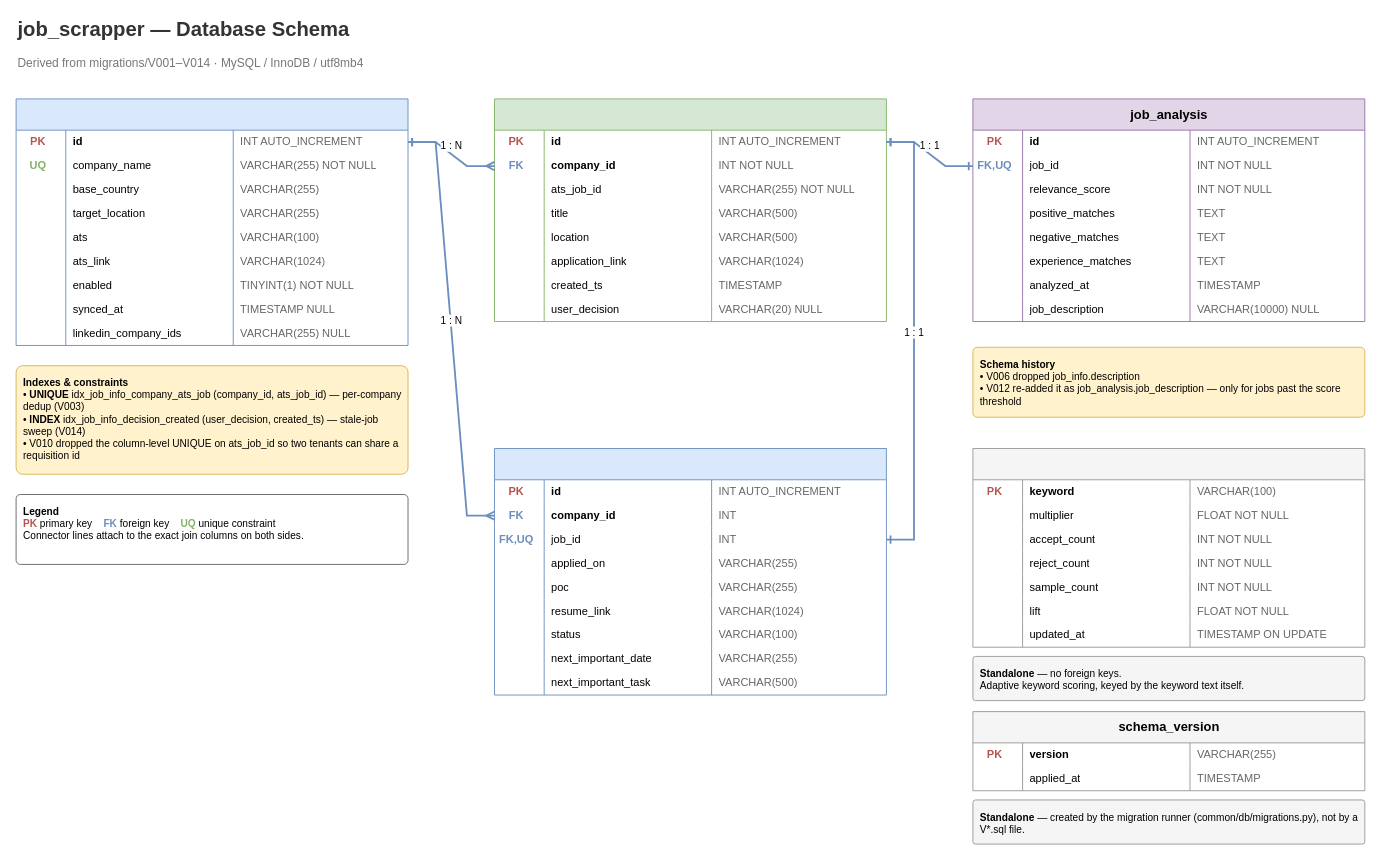
The diagram is 1381 pixels wide and 860 high, and some of its shapes have lost their labels. Here are the shapes that lost their labels. From the top down, the box of each, then its label:
(15, 98, 408, 345): company_info
(494, 98, 886, 322): job_info
(972, 448, 1365, 647): keyword_weight_overrides
(494, 448, 886, 695): application_status
